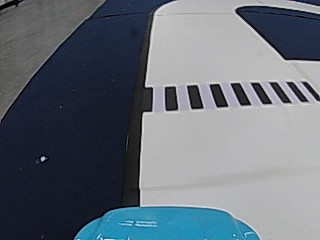CrossWalk: (141, 78, 318, 111)
